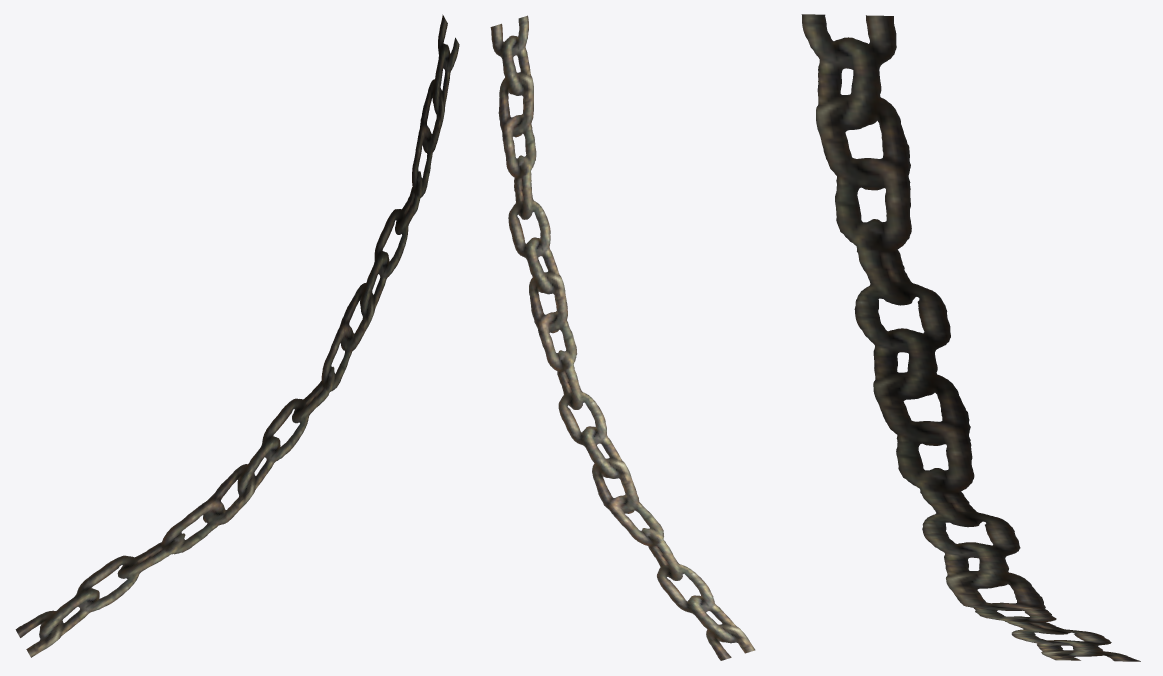
3 renders of one model, left to right at view 1: azimuth 30°, elevation 25°; view 2: azimuth 150°, elevation 25°; view 3: azimuth 270°, elevation 25°, orthographic. The views are drawn at different scales.
Visible parts, largest first — view 1: a45; view 2: a45; view 3: a45.
Boxes of the visible parts, x1,y1,x2,y2 form: a45: [15, 14, 459, 657]; a45: [490, 15, 755, 660]; a45: [801, 14, 1140, 661].
Size of the model in its own units: 449 by 707 by 252.
